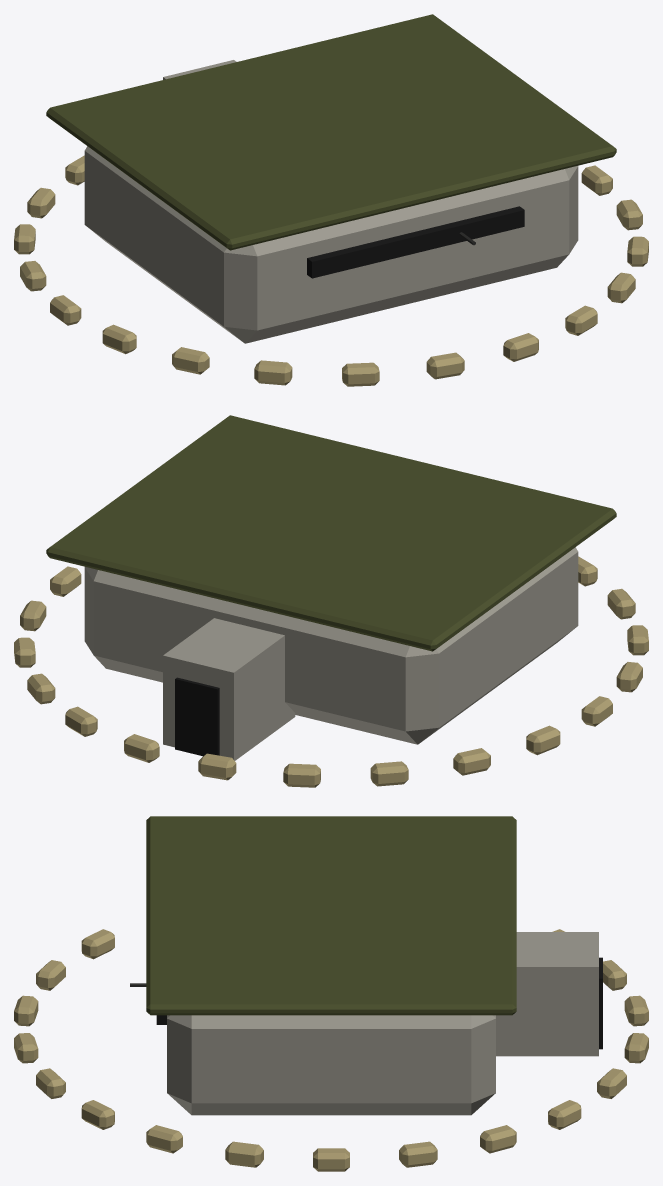
File: bunker.glb
The picture shows the model from 3 angles, top to bottom: view 1: azimuth 30°, elevation 25°; view 2: azimuth 150°, elevation 25°; view 3: azimuth 270°, elevation 25°; orthographic projection.
Visible parts, largest first — view 1: Estrutura.005; view 2: Estrutura.005; view 3: Estrutura.005.
Boxes of the visible parts, bbox=[...] form: Estrutura.005: bbox=[14, 14, 648, 386]; Estrutura.005: bbox=[14, 415, 648, 787]; Estrutura.005: bbox=[14, 816, 648, 1171].
Size of the model in its own units: 15.5 by 3.45 by 15.44.
